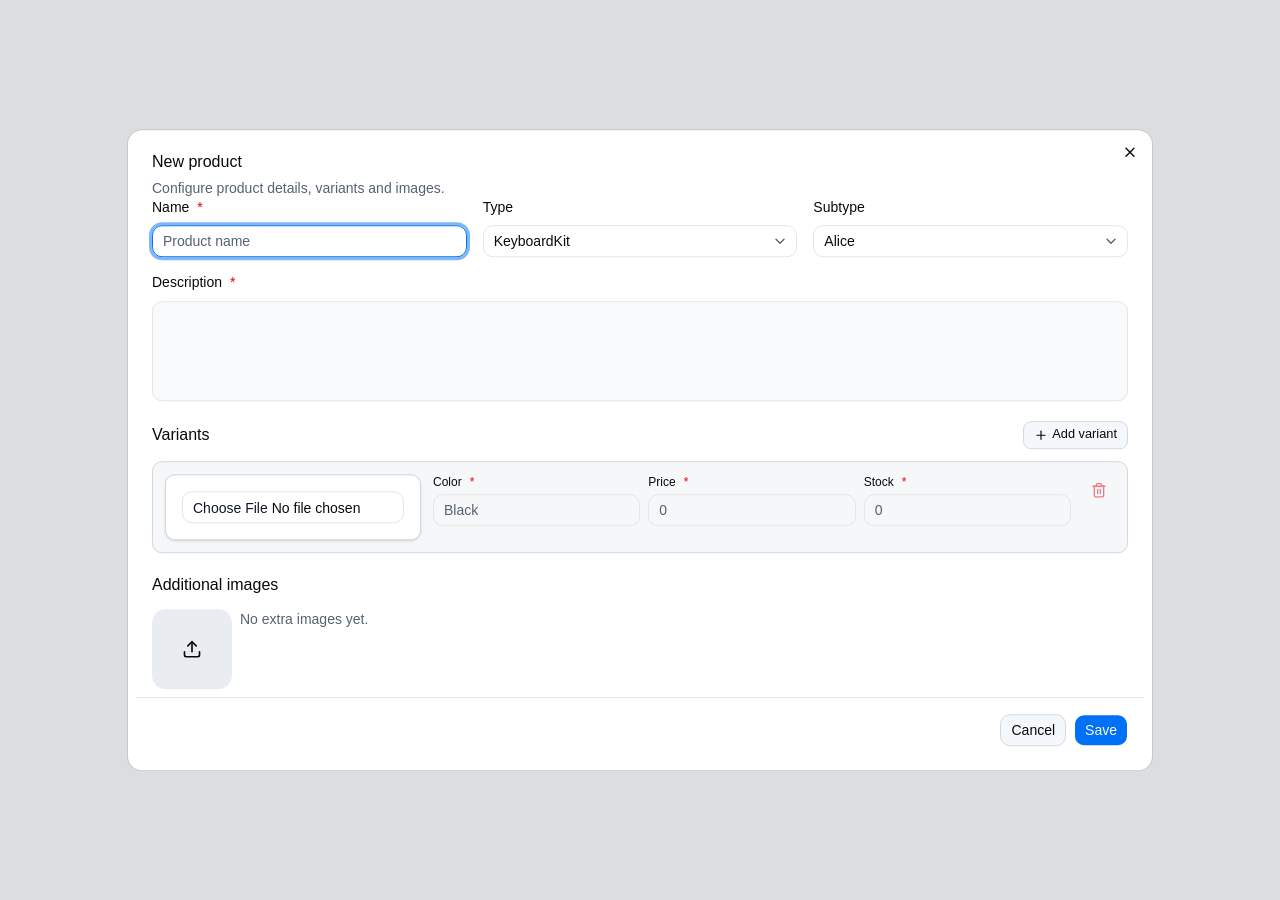
ProductFormDialog › updates subtype options when product type changes to KeyboardKit
Expected: the dropdown labelled "Alice ▼" is shown, [813,226,1128,258]
Click the dropdown labelled "KeyboardKit ▼". click: (532, 242)
box: [483,226,797,258]
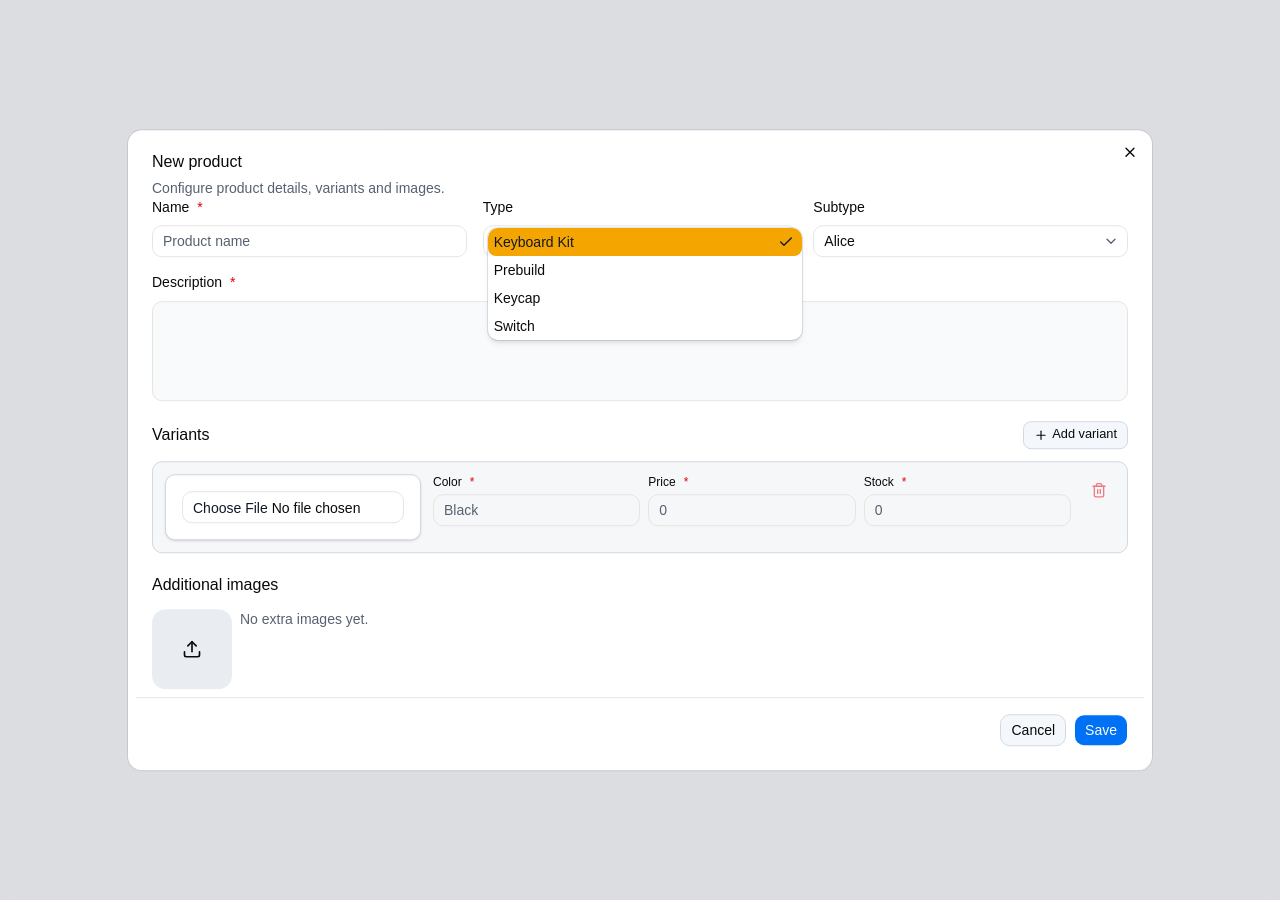
Click the option "Keyboard Kit". click: (534, 242)
box: [488,228,802,256]
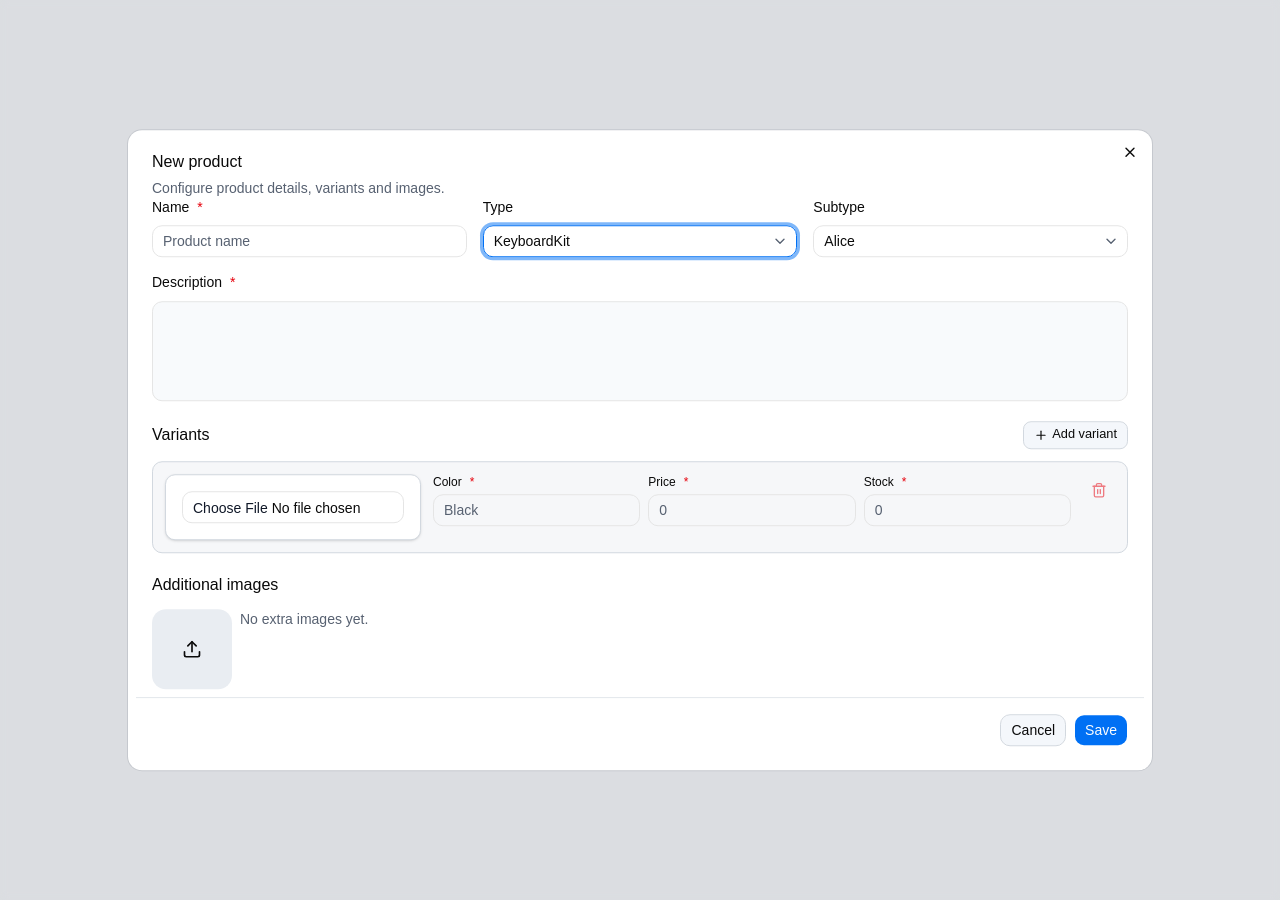
Expected: the dropdown labelled "KeyboardKit ▼" is shown, [483,226,797,258]
Click the dropdown labelled "Alice ▼". click: (840, 242)
box: [813,226,1128,258]
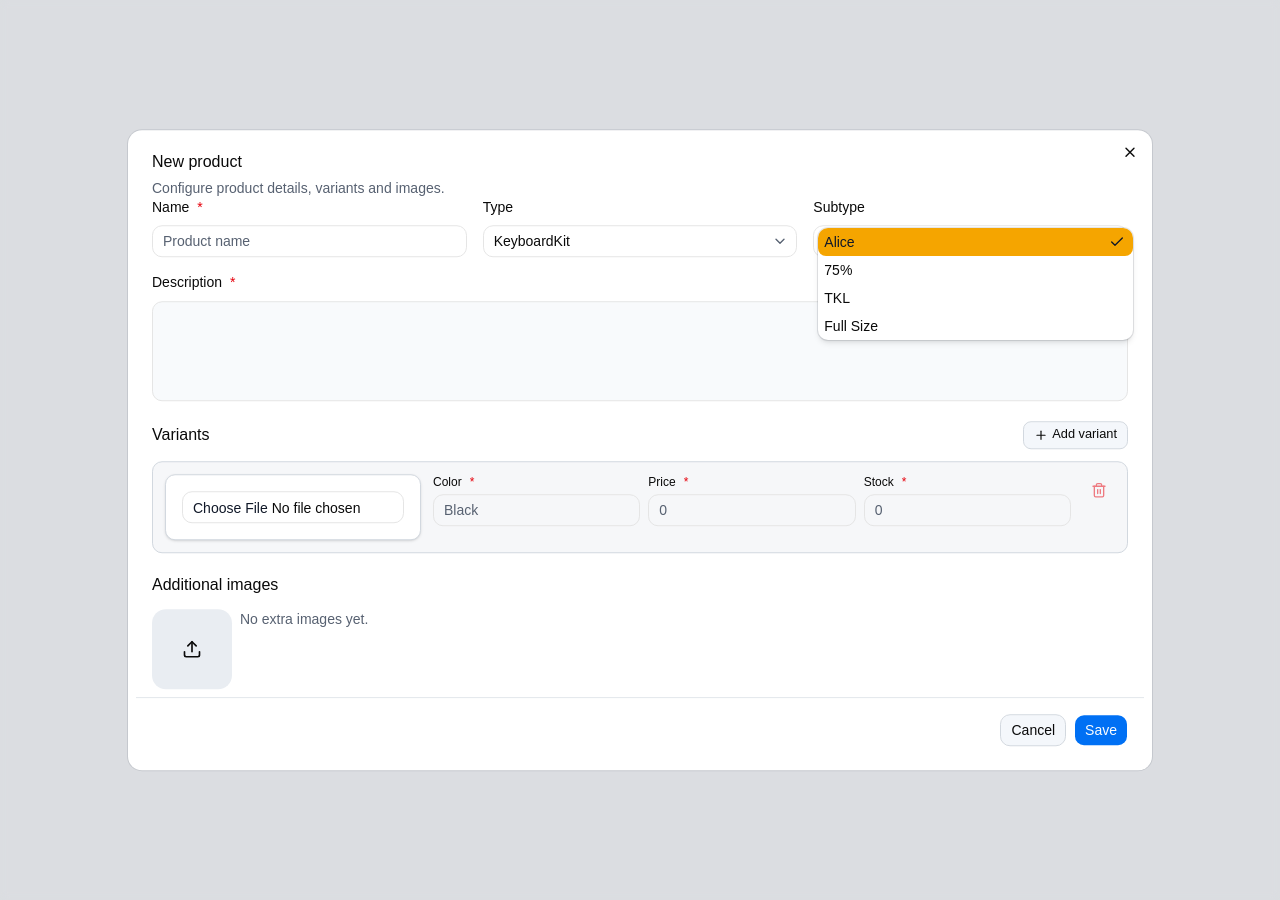
Expected: the option "Alice" is shown, [818,228,1133,256]
Expected: the option "75%" is shown
Expected: the option "TKL" is shown, [824,290,850,306]
Click the option "75%". click: (838, 270)
box: [824,262,852,278]
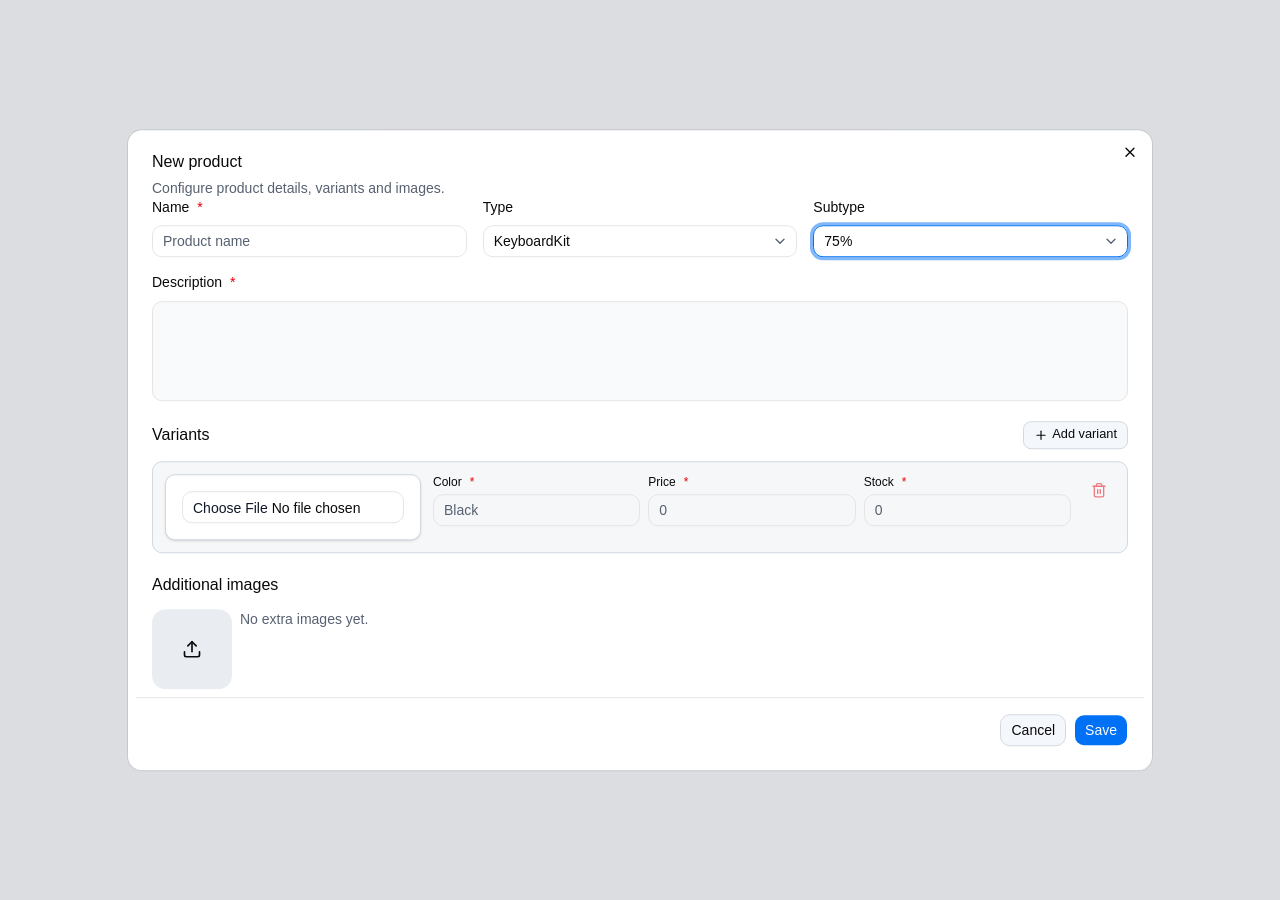
Expected: the dropdown labelled "75% ▼" is shown, [813,226,1128,258]
